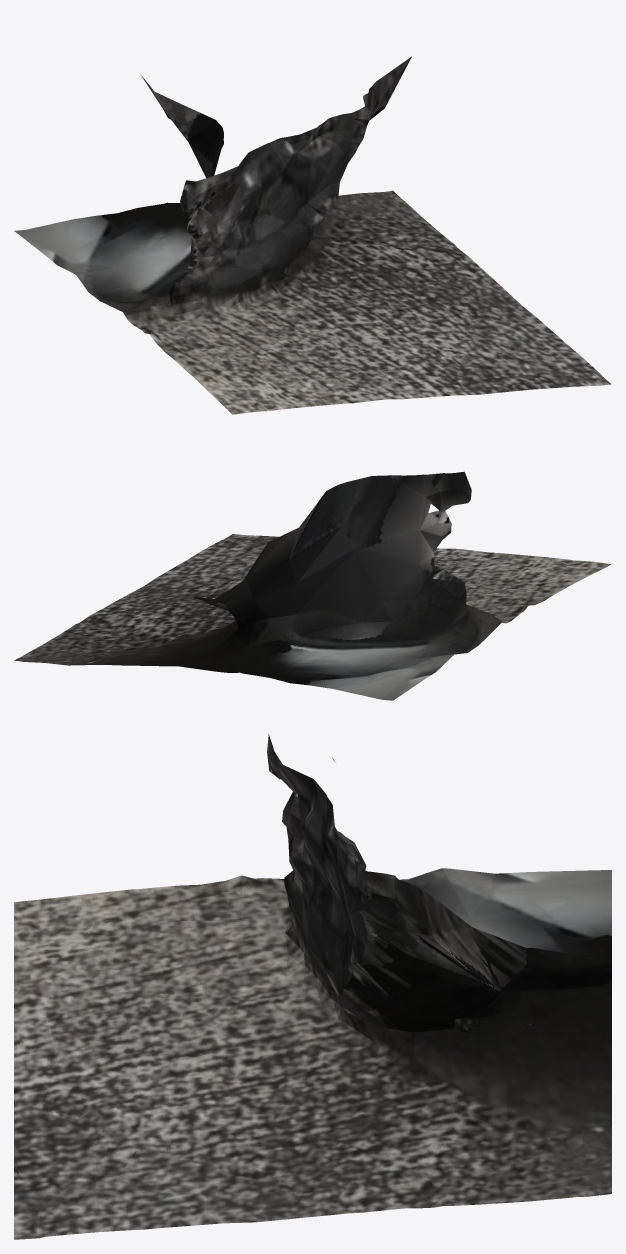
3 renders of one model, top to bottom at view 1: azimuth 30°, elevation 25°; view 2: azimuth 150°, elevation 25°; view 3: azimuth 270°, elevation 25°, orthographic. The views are drawn at different scales.
Size of the model in its own units: 0.8374 by 0.4503 by 0.8374.
4 materials, 4 textured.
